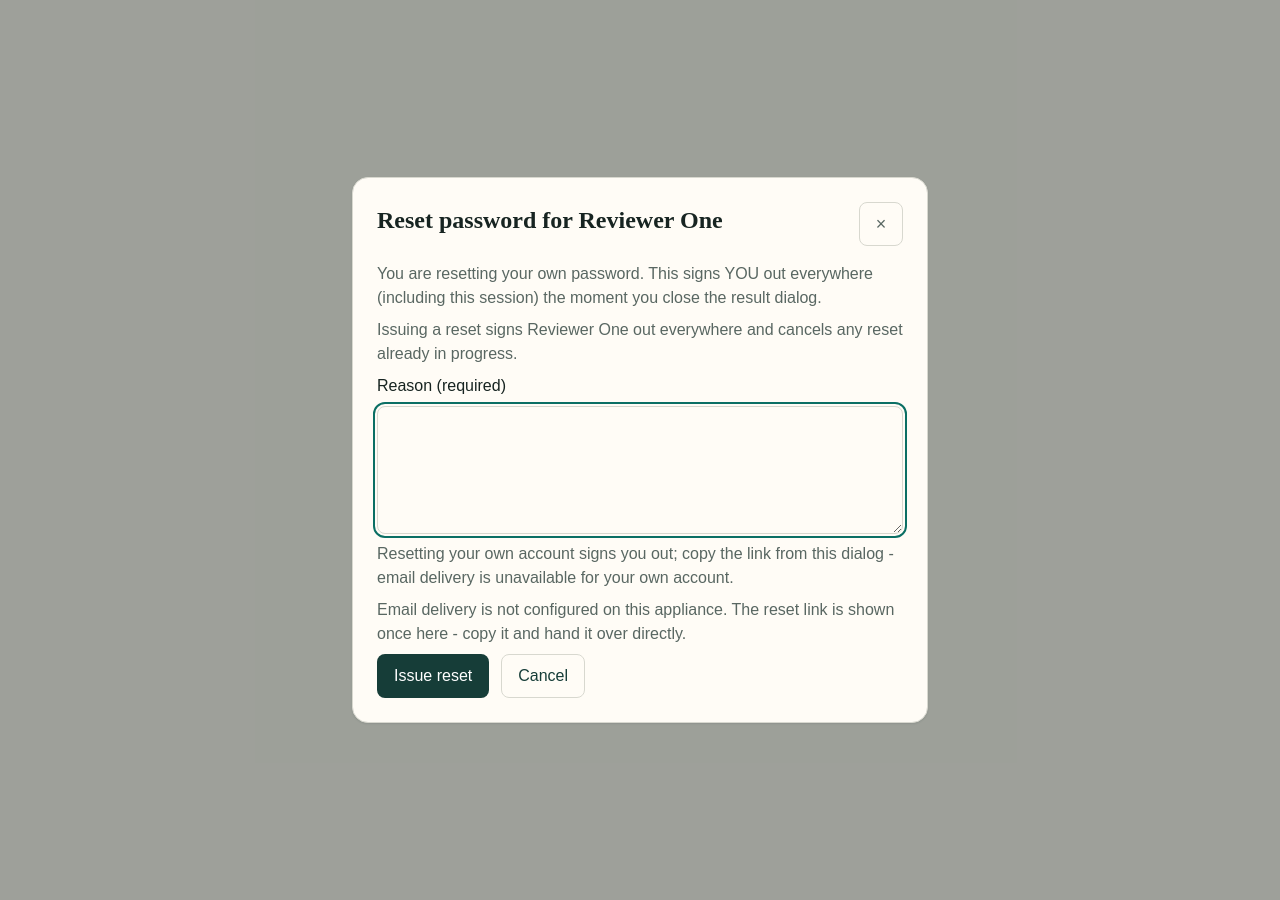
Test: AccountPasswordResetModal › releases the self-reset hold when issuance rejects
This screenshot has width=1280, height=900.
Step 1. Type "Rotating my own password after a device loss." into the text box labelled "Reason (required)" → (640, 470), box [377,406,903,534]
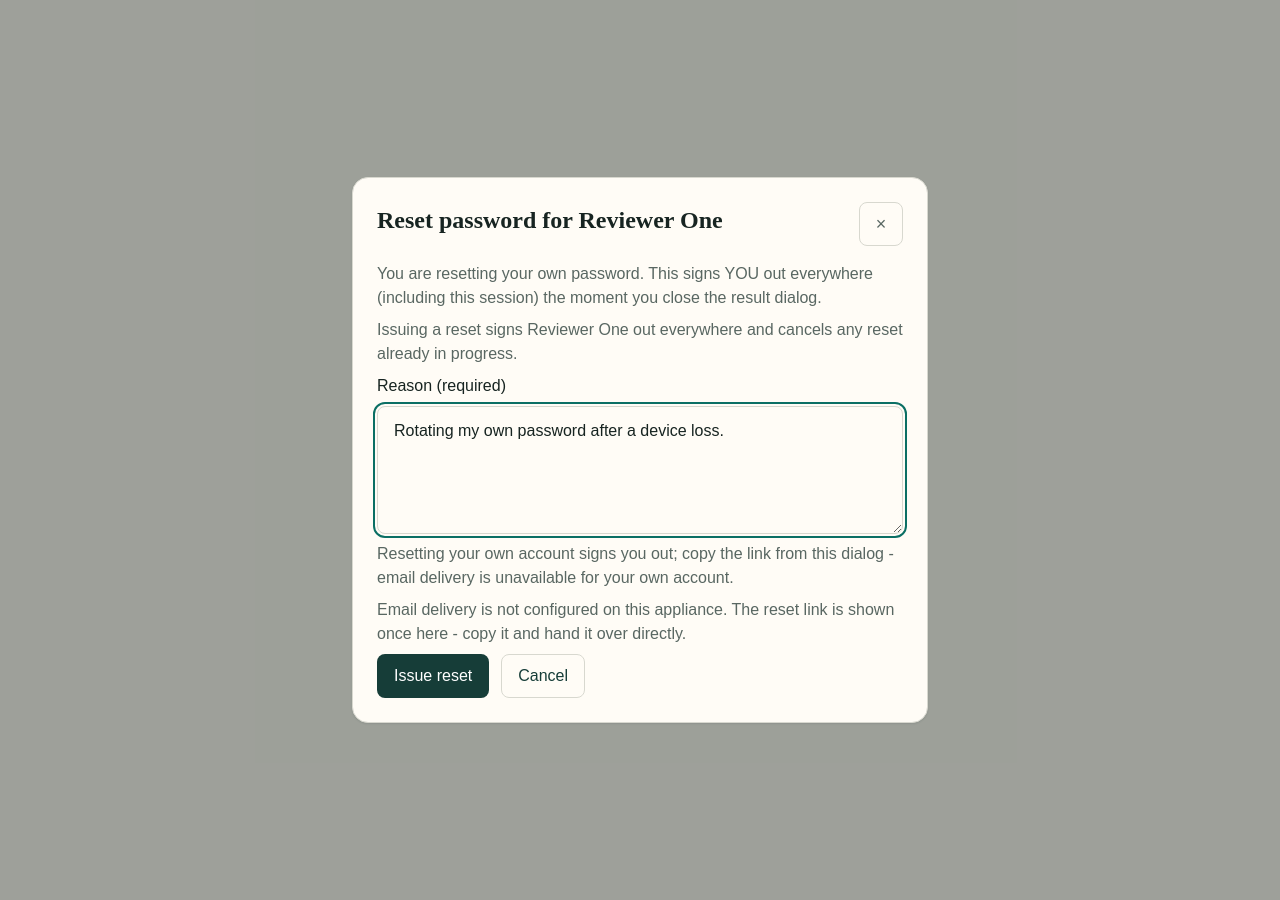
Step 2. Click the button "Issue reset" → click(433, 676), box [377,654,489,698]
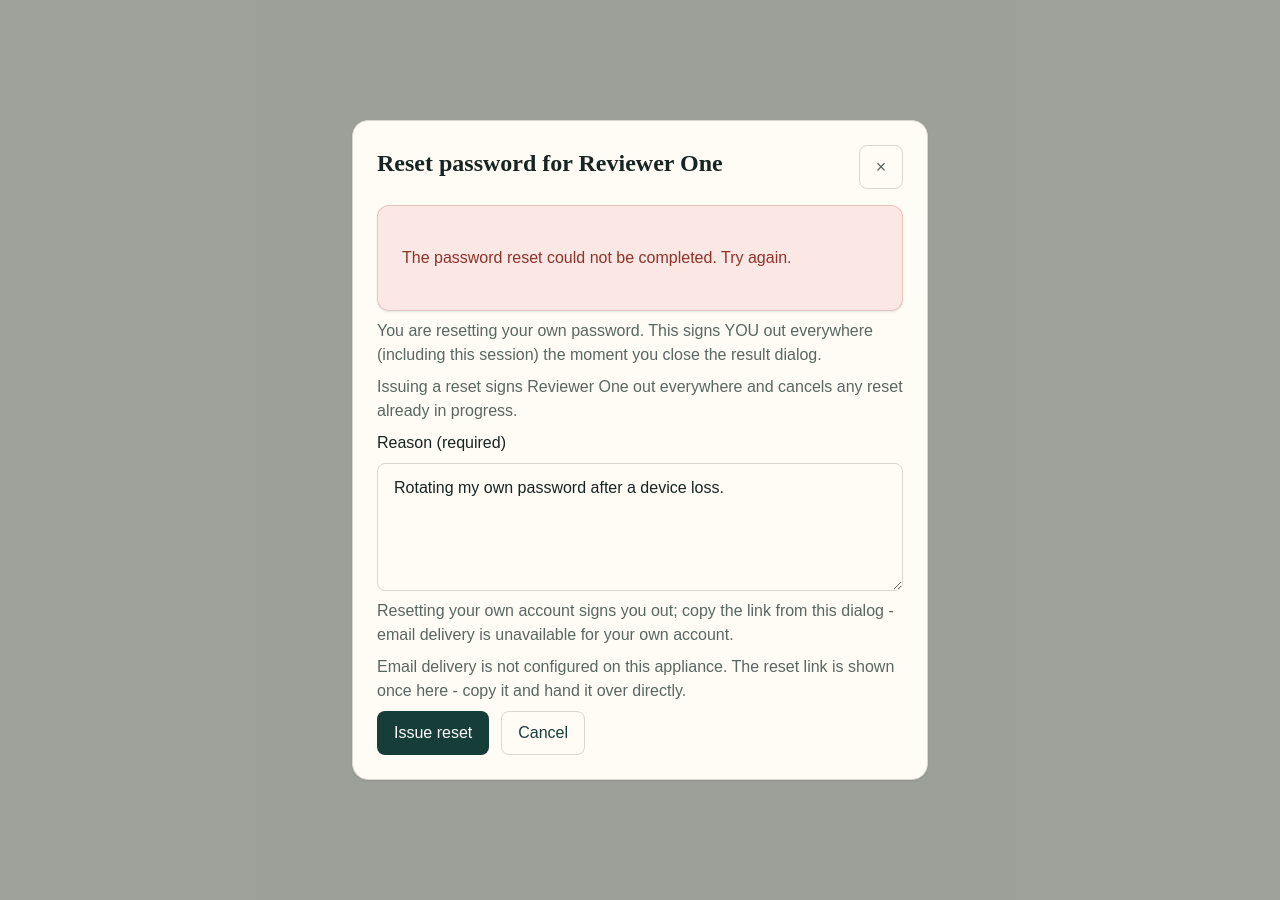
Check: the message "The password reset could not be completed. Try again." is shown, box [377,205,903,311]
